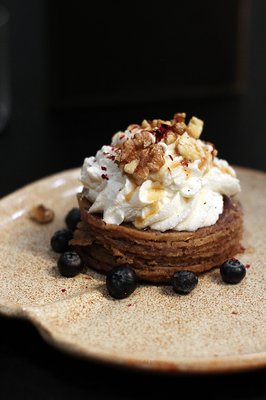sushi: (70, 114, 247, 283)
